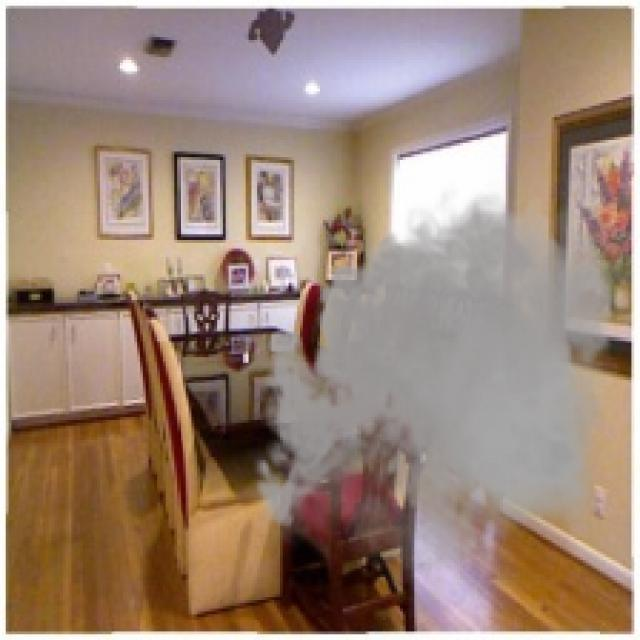Smoke: (242, 177, 628, 594)
